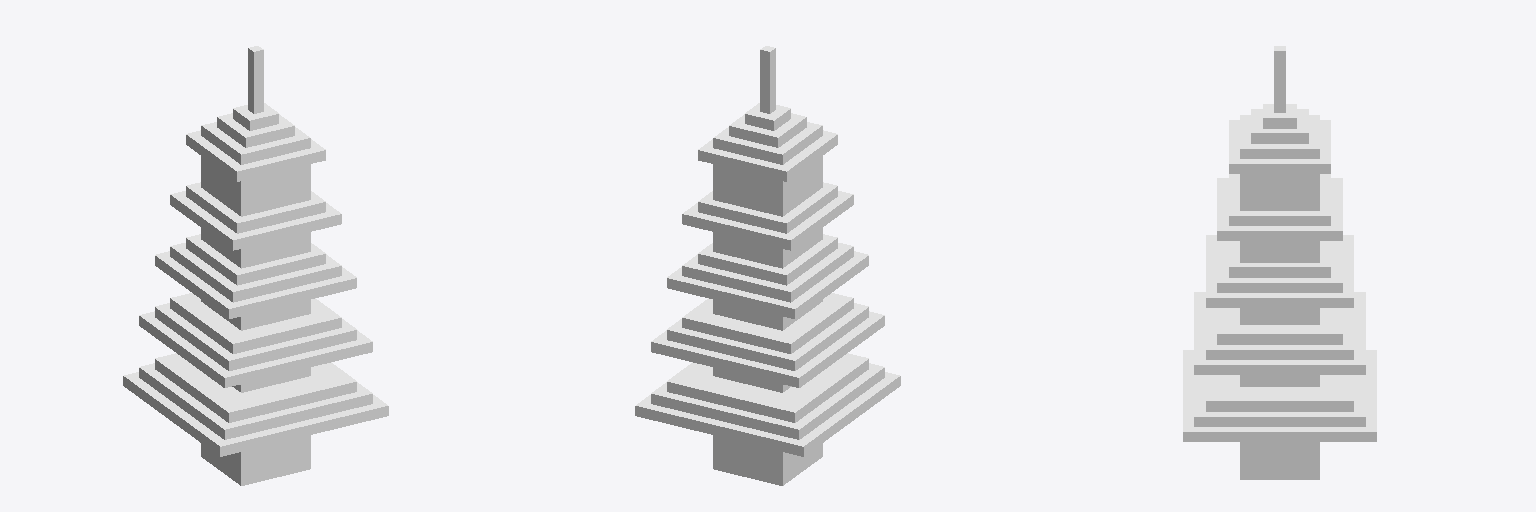
File: gozyunotou.obj
3 views of the same model, side by side, from view 1: azimuth 30°, elevation 25°; view 2: azimuth 150°, elevation 25°; view 3: azimuth 270°, elevation 25° (orthographic).
Parts seen in each view (by area): view 1: object 1; view 2: object 1; view 3: object 1.
Part boxes in pixels (x1,y1,x2,y2): object 1: (123, 46, 388, 485); object 1: (635, 46, 900, 485); object 1: (1183, 46, 1376, 479).
Size of the model in its own units: 3.4 by 8 by 3.4.